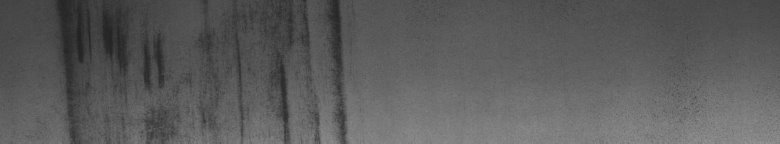ka: (144, 4, 352, 136)
